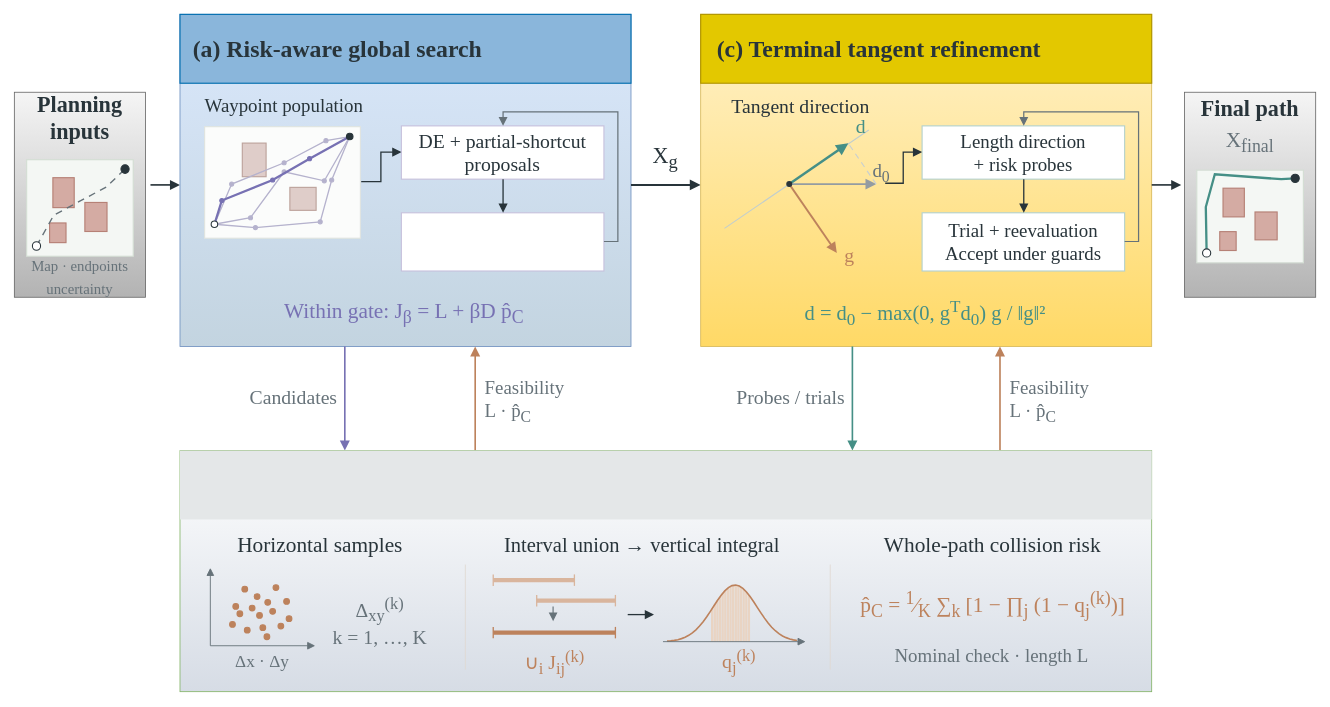
Some shapes in this 1330 by 707 pixel diagram are drawn without their labels. Here are the shapes that lost their labels. From the top down, the box of each, then its label:
(400, 212, 604, 271): Select + adapt feasibility · risk gate
(180, 450, 1151, 519): (b) Shared conditional collision evaluator
